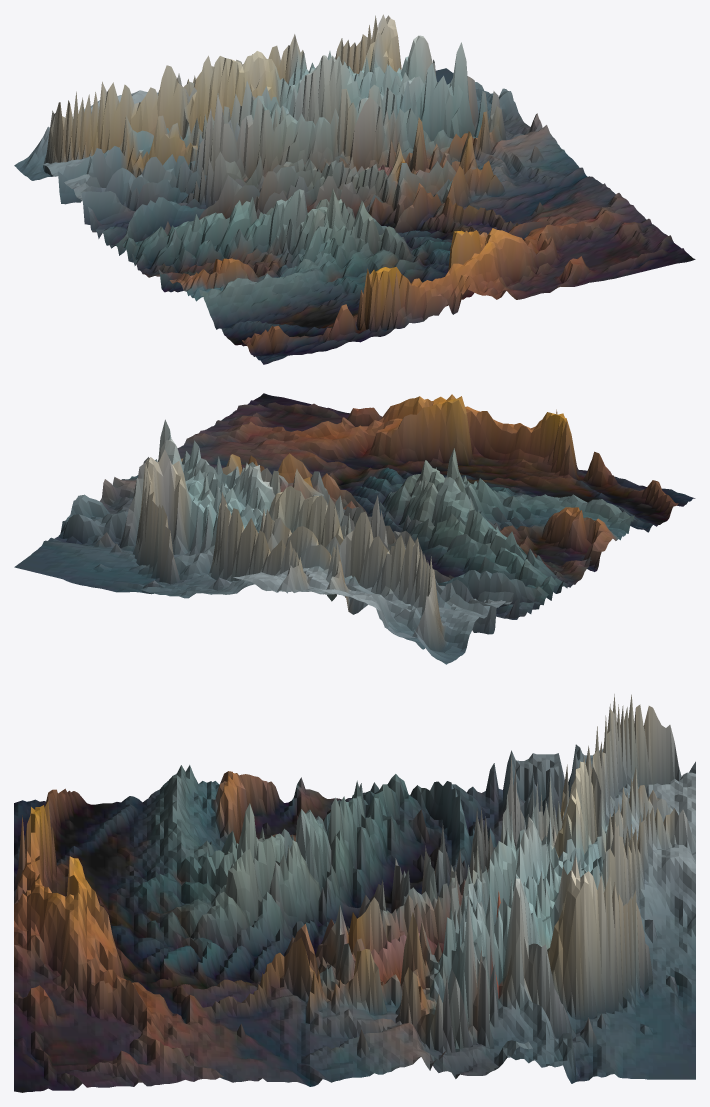
The picture shows the model from 3 angles, top to bottom: view 1: azimuth 30°, elevation 25°; view 2: azimuth 150°, elevation 25°; view 3: azimuth 270°, elevation 25°; orthographic projection. The views are drawn at different scales.
Parts seen in each view (by area): view 1: world; view 2: world; view 3: world.
Part boxes in pixels (x1,y1,x2,y2): world: [14, 14, 695, 364]; world: [14, 393, 695, 664]; world: [14, 694, 695, 1092].
Bounding box in the file's own units: 1 × 0.2706 × 1.
